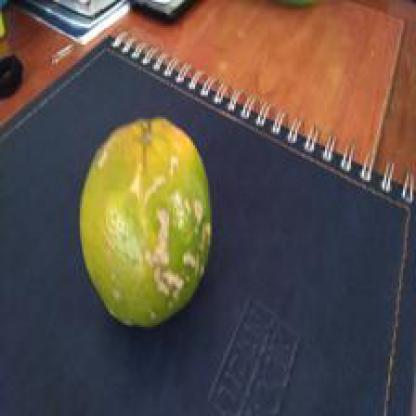orange_rotten: (65, 102, 271, 347)
